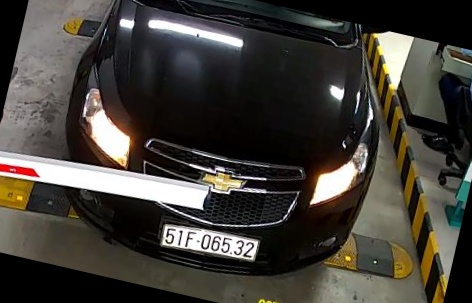plate: (157, 215, 267, 275)
